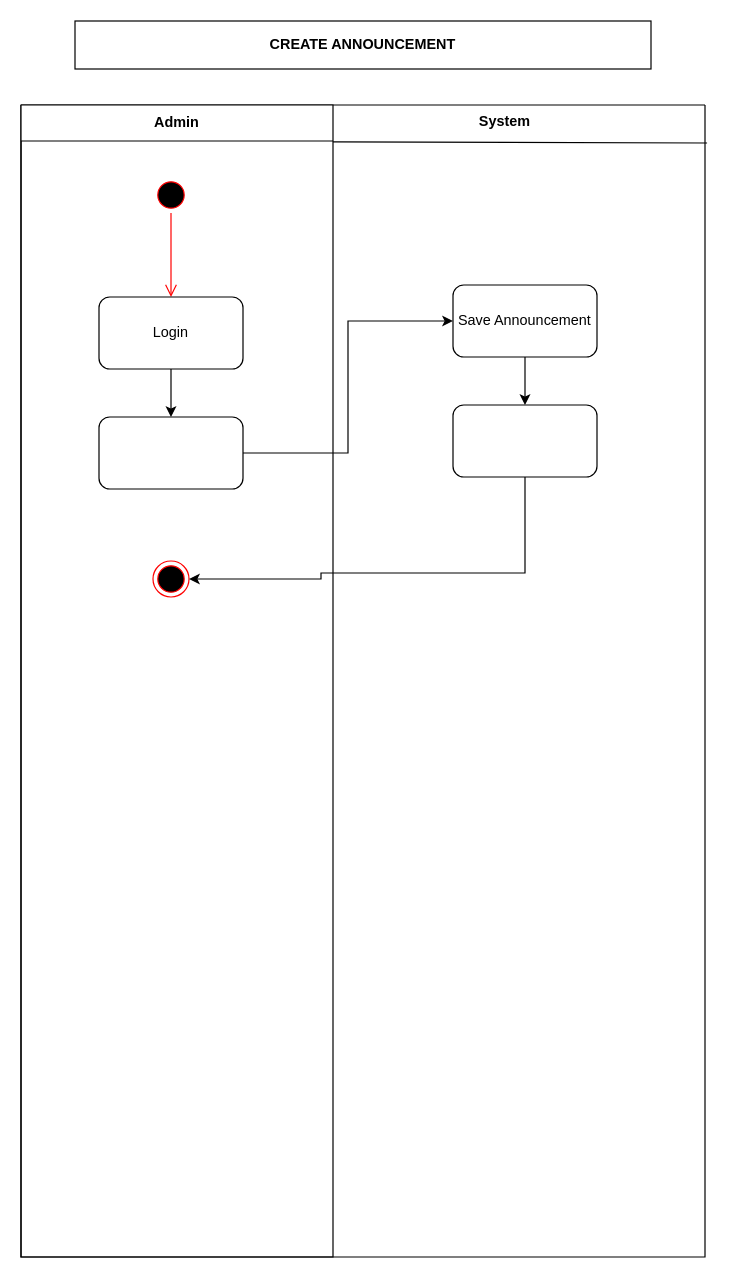
The diagram is 730 pixels wide and 1278 high, and some of its shapes have lost their labels. The centre of each missing label's shape, as x and y in pixels:
"Enter Details" goes at (170,452).
"Publish" goes at (524,440).
